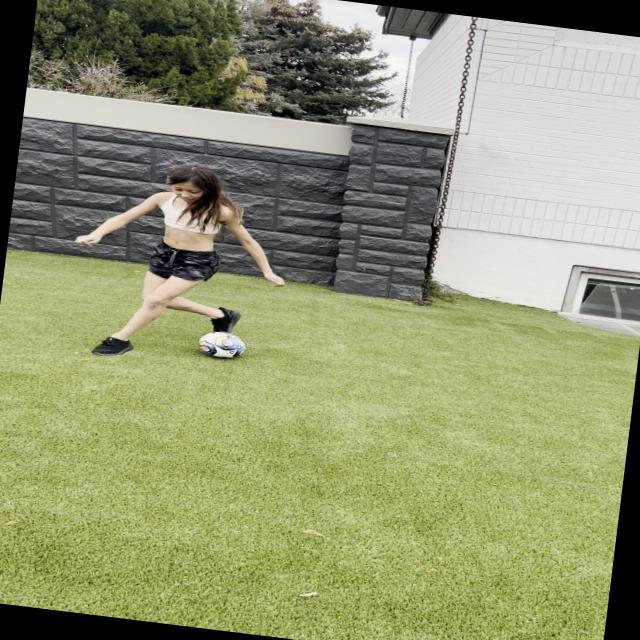Soccer Ball: (195, 328, 249, 362)
